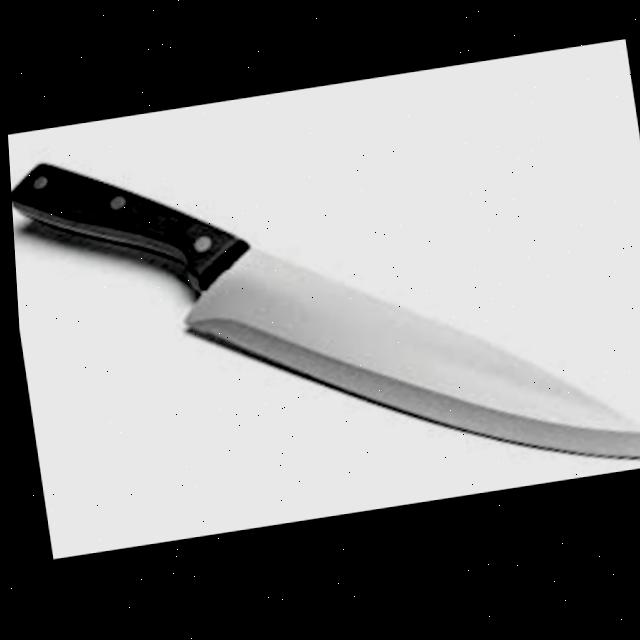Knife: (5, 75, 640, 554)
